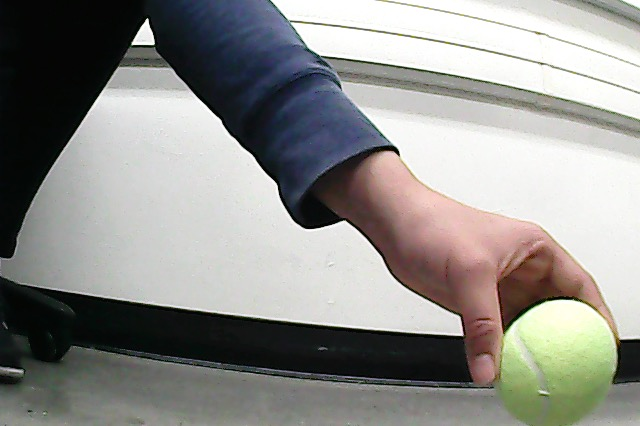ball: (491, 295, 618, 426)
